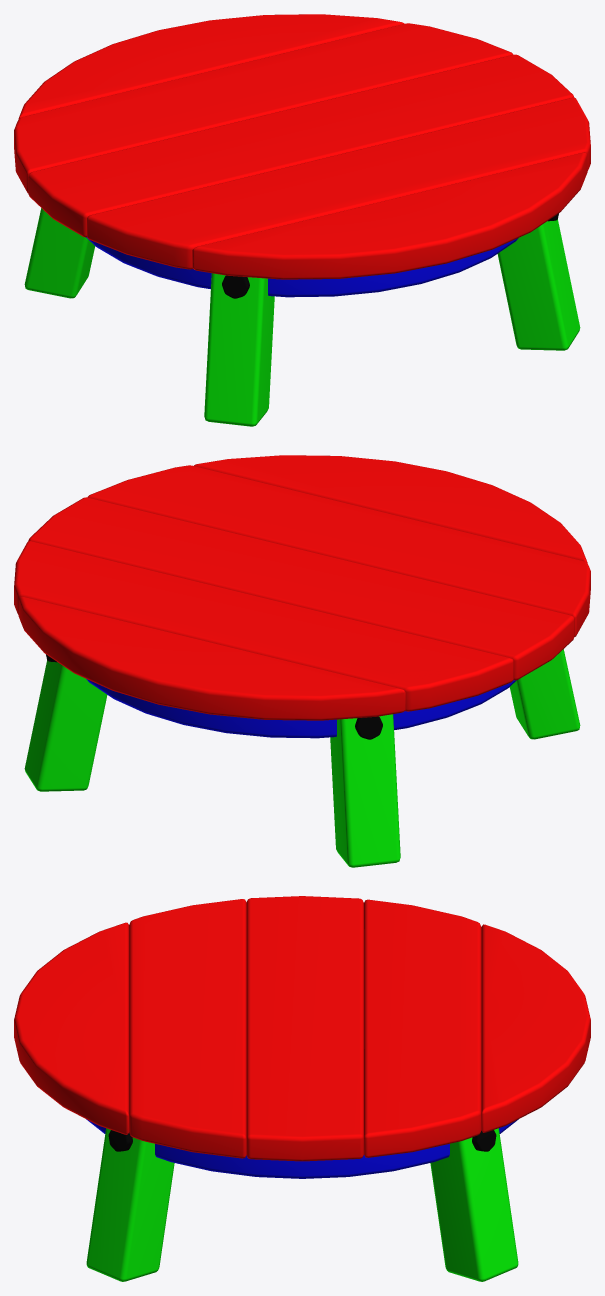
Rendered from SM_Table_Round.fbx.
3 views of the same model, one above another, from view 1: azimuth 30°, elevation 25°; view 2: azimuth 150°, elevation 25°; view 3: azimuth 270°, elevation 25° (orthographic).
Parts seen in each view (by area): view 1: SM_Table_Round; view 2: SM_Table_Round; view 3: SM_Table_Round.
Boxes of the visible parts, box(x1,y1,x2,y2) form: SM_Table_Round: box(14, 14, 590, 426); SM_Table_Round: box(14, 455, 590, 867); SM_Table_Round: box(14, 896, 590, 1281).
Bounding box in the file's own units: 105 × 105 × 36.04.
